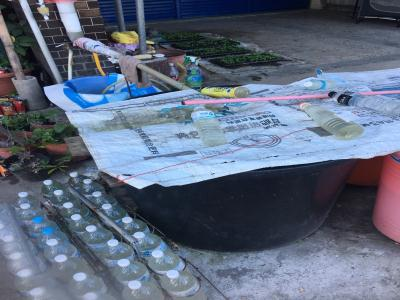bottle: (298, 101, 364, 140), (326, 88, 399, 118), (189, 102, 230, 145), (160, 267, 206, 300), (198, 83, 249, 102), (302, 78, 354, 96)
plastic_bag: (83, 102, 194, 184)
